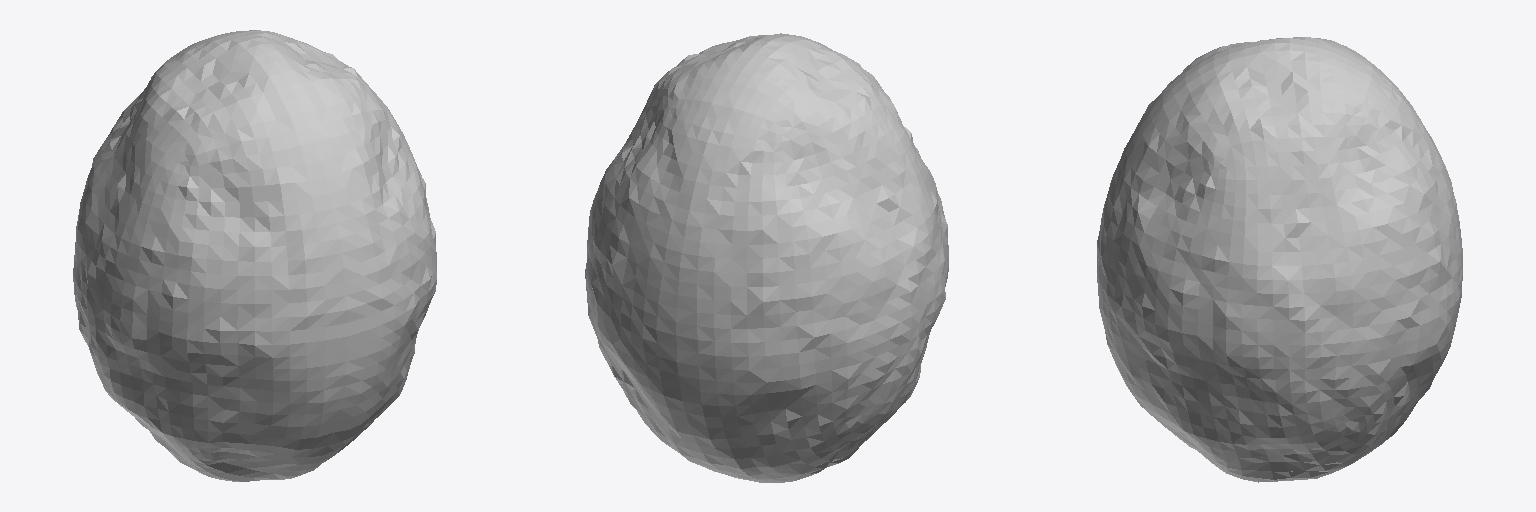
Rendered from AlienEgg.obj.
3 views of the same model, side by side, from view 1: azimuth 30°, elevation 25°; view 2: azimuth 150°, elevation 25°; view 3: azimuth 270°, elevation 25° (orthographic).
Visible parts, largest first — view 1: AlienEgg; view 2: AlienEgg; view 3: AlienEgg.
Boxes of the visible parts, <box> form: AlienEgg: <box>73,30,436,481</box>; AlienEgg: <box>585,33,948,482</box>; AlienEgg: <box>1097,37,1462,482</box>.
Size of the model in its own units: 20.57 by 26.79 by 20.86.